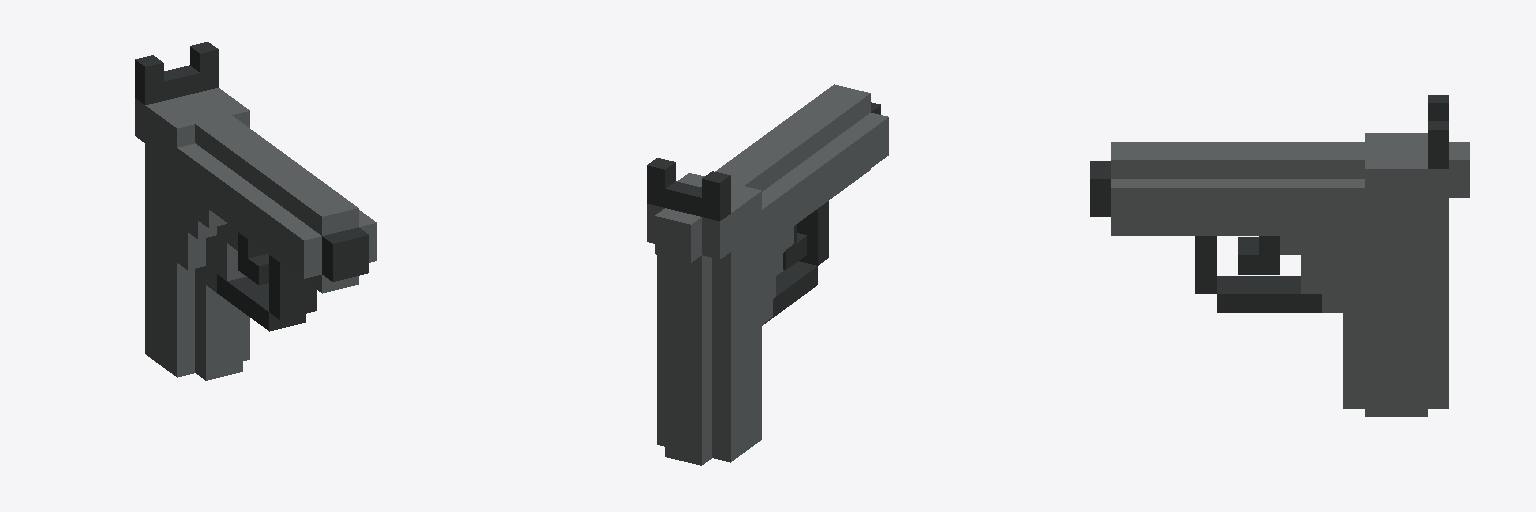
3 views of the same model, side by side, from view 1: azimuth 30°, elevation 25°; view 2: azimuth 150°, elevation 25°; view 3: azimuth 270°, elevation 25° (orthographic).
Visible parts, largest first — view 1: object 1; view 2: object 1; view 3: object 1.
Part boxes in pixels (bbox=[...]): object 1: bbox=[135, 42, 376, 380]; object 1: bbox=[647, 84, 888, 465]; object 1: bbox=[1090, 95, 1469, 416].
Bounding box in the file's own units: 0.4 × 1.5 × 1.8.
Materials: 1 (1 with a texture image).